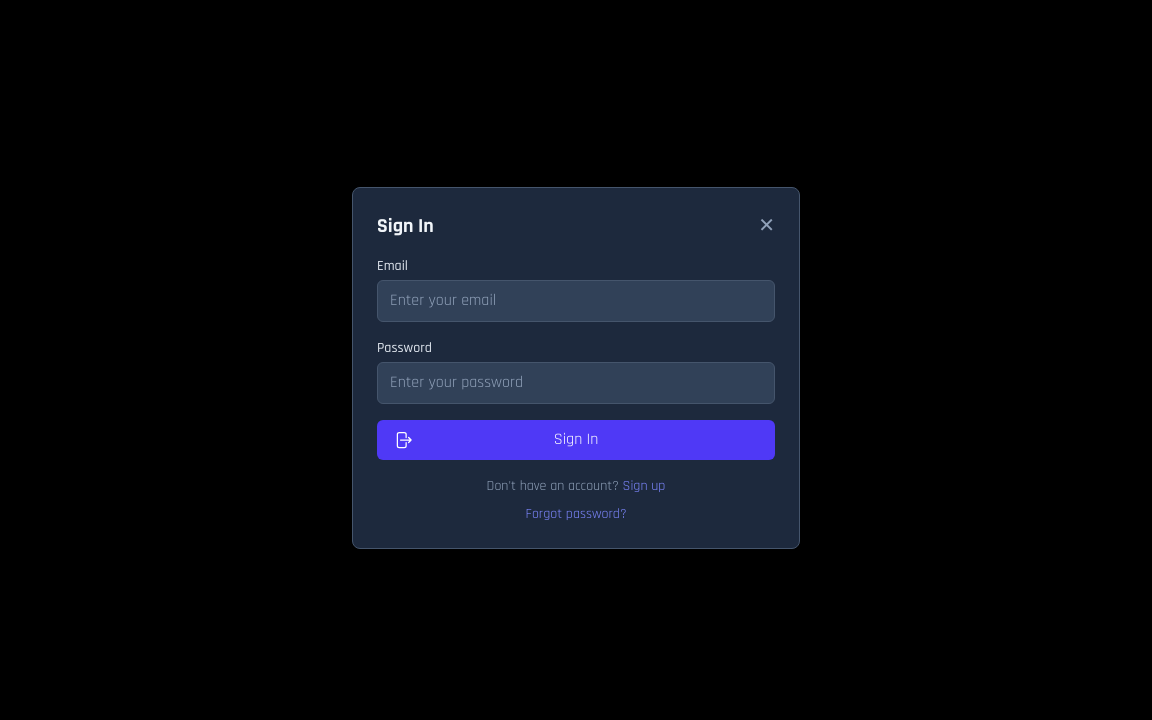
Test: AuthModal › Sign Up Mode › should switch to sign up mode when link is clicked
The width and height of the screenshot is (1152, 720).
What coordinates should you click on to do the following:
click the button "Sign up"
I would click on:
 (644, 486)
Its box is [622,476,665,496].
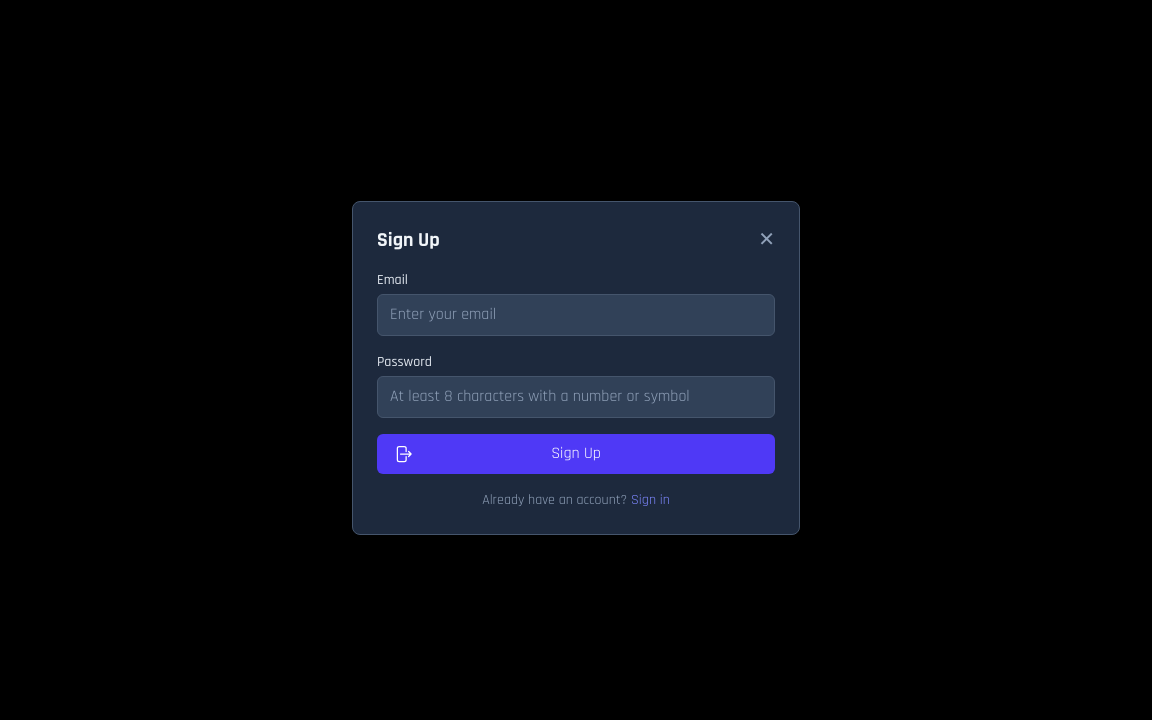
Check: the heading "Sign Up" is shown, box [377,226,440,254]
Check: the button "Sign Up" is shown, box [377,434,775,474]
